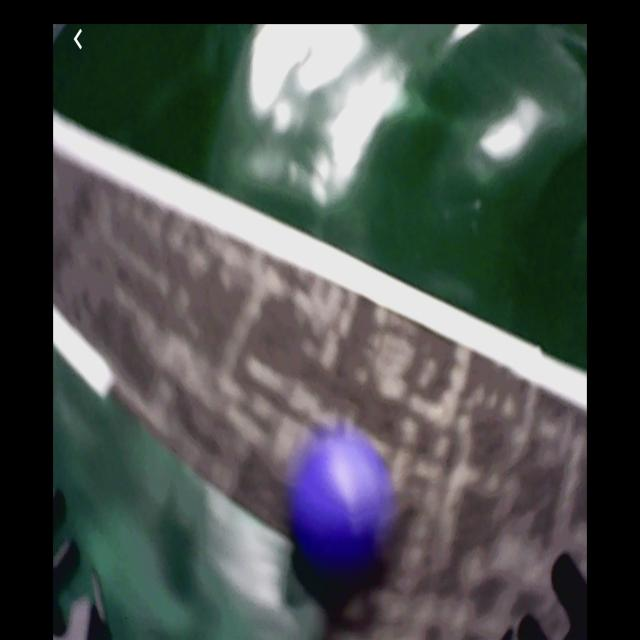ball: (291, 433, 394, 587)
